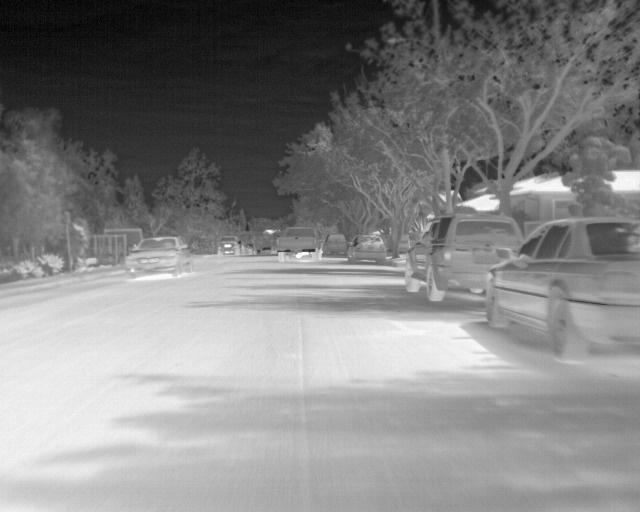car: (483, 216, 639, 362), (405, 214, 525, 302), (124, 234, 191, 278), (274, 227, 321, 260), (347, 234, 389, 266), (320, 233, 347, 259), (220, 236, 240, 256), (239, 241, 254, 256), (260, 244, 276, 256), (249, 243, 263, 255)
